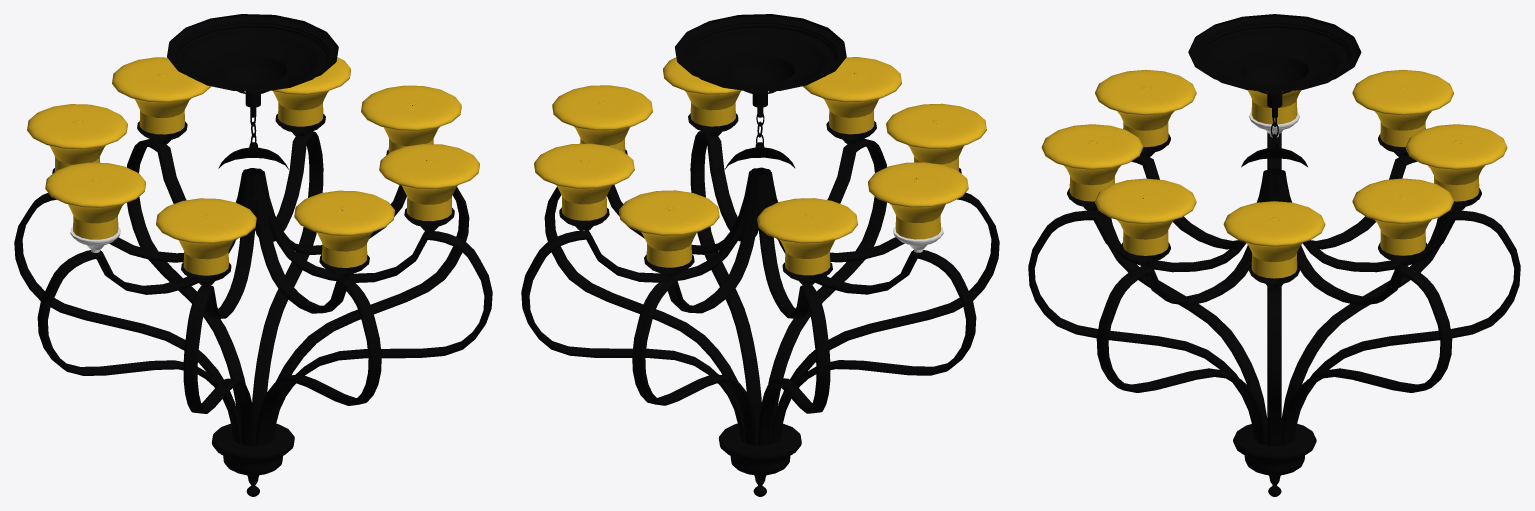
File: 吊灯模型.fbx
3 renders of one model, left to right at view 1: azimuth 30°, elevation 25°; view 2: azimuth 150°, elevation 25°; view 3: azimuth 270°, elevation 25°, orthographic.
Visible parts, largest first — view 1: Line001, Loft005, Loft006, Loft004, Line012, Line010, Line016, Line014, Loft008, Loft003, Line006, Line018 (+7 smaller); view 2: Line001, Loft001, Loft008, Loft002, Line006, Line008, Line010, Line020, Loft006, Loft003, Line014, Line012 (+7 smaller); view 3: Line001, Loft006, Loft008, Line020, Line016, Line018, Line014, Line008, Line012, Line006, Loft001, Loft005 (+6 smaller).
Part boxes in pixels (bbox=[...]): Line001: bbox=[167, 14, 338, 94]; Loft005: bbox=[251, 174, 381, 445]; Loft006: bbox=[256, 171, 492, 442]; Loft004: bbox=[183, 174, 258, 446]; Line012: bbox=[156, 198, 256, 275]; Line010: bbox=[45, 162, 145, 239]; Line016: bbox=[379, 144, 479, 221]; Line014: bbox=[294, 190, 394, 267]; Loft008: bbox=[248, 131, 323, 431]; Loft003: bbox=[37, 172, 251, 443]; Line006: bbox=[112, 57, 211, 134]; Line018: bbox=[361, 85, 461, 152]; Line001: bbox=[675, 14, 846, 94]; Loft001: bbox=[632, 173, 762, 445]; Loft008: bbox=[521, 170, 757, 441]; Loft002: bbox=[755, 174, 830, 445]; Line006: bbox=[619, 190, 719, 267]; Line008: bbox=[757, 198, 857, 275]; Line010: bbox=[868, 162, 968, 239]; Line020: bbox=[534, 143, 634, 220]; Loft006: bbox=[690, 131, 765, 430]; Loft003: bbox=[762, 171, 976, 443]; Line014: bbox=[803, 57, 901, 134]; Line012: bbox=[886, 103, 986, 171]; Line001: bbox=[1188, 14, 1361, 94]; Loft006: bbox=[1096, 173, 1274, 444]; Loft008: bbox=[1274, 173, 1452, 444]; Line020: bbox=[1352, 178, 1453, 255]; Line016: bbox=[1095, 178, 1196, 255]; Line018: bbox=[1223, 201, 1325, 278]; Line014: bbox=[1041, 124, 1143, 201]; Line008: bbox=[1352, 69, 1453, 147]; Line012: bbox=[1095, 69, 1196, 147]; Line006: bbox=[1405, 124, 1507, 201]; Loft001: bbox=[1278, 170, 1520, 440]; Loft005: bbox=[1028, 170, 1270, 440].
Bounding box in the file's own units: 295 × 295 × 295.
